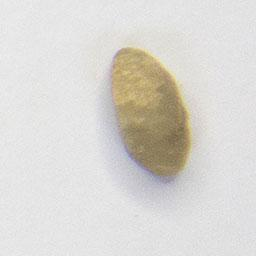defect: (107, 43, 194, 181)
